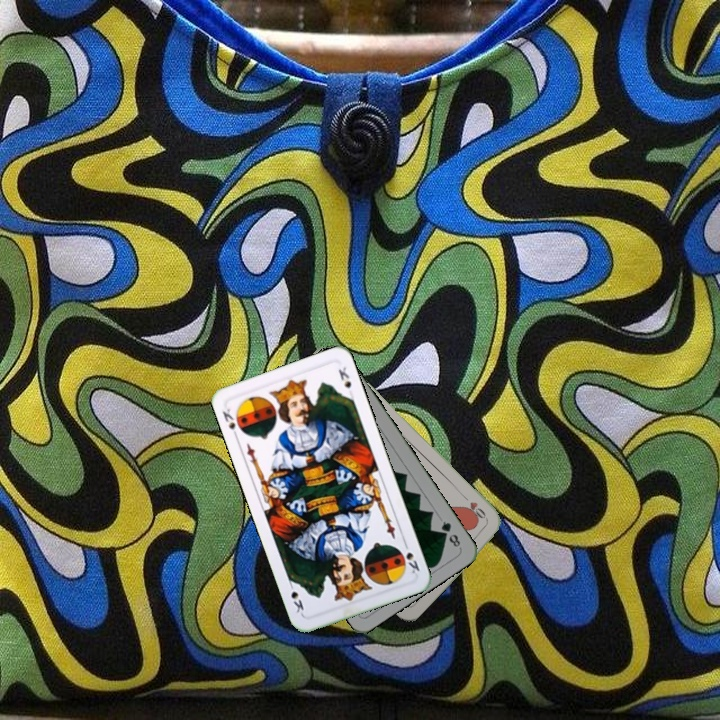G8: (437, 517, 463, 550)
HO: (458, 490, 490, 524)
SK: (400, 537, 422, 576), (218, 404, 241, 441)
